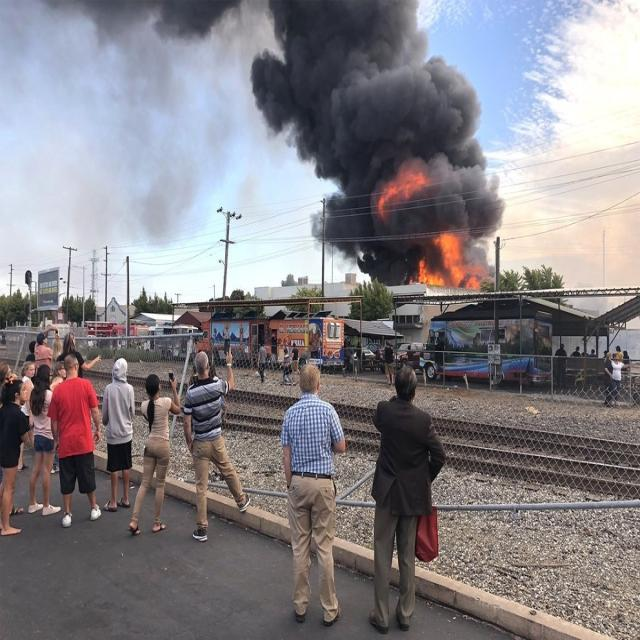Fire: (406, 229, 486, 290), (376, 170, 428, 216)
Smoke: (249, 1, 506, 290), (45, 1, 238, 41)
